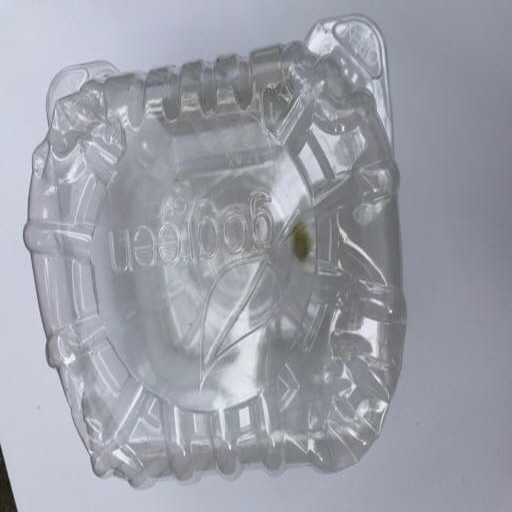Plastic_4: (25, 19, 408, 480)
